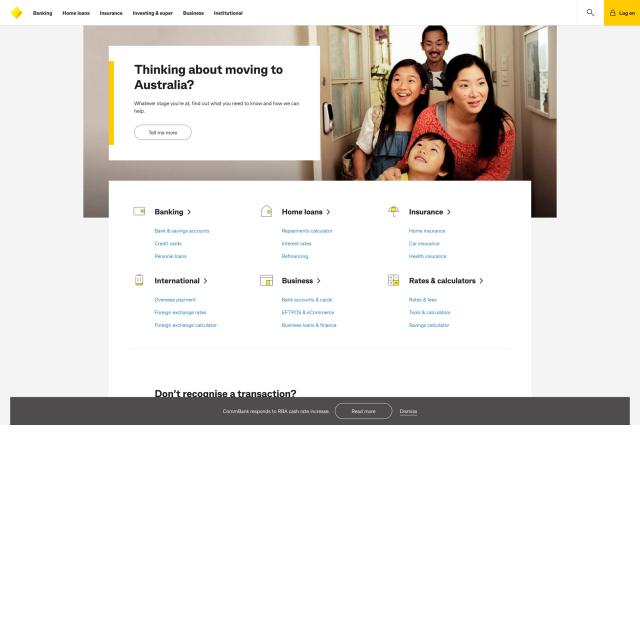CheckBox: (134, 124, 192, 141), (335, 403, 393, 420), (604, 0, 640, 26), (409, 276, 484, 286), (578, 0, 604, 26), (154, 276, 208, 286), (409, 206, 451, 218), (281, 206, 331, 216), (154, 206, 192, 218), (153, 295, 198, 304), (282, 276, 321, 286), (154, 322, 217, 328), (154, 309, 207, 316), (155, 228, 210, 234), (154, 253, 188, 260), (154, 240, 182, 247), (398, 408, 418, 417)
Input field: (133, 100, 300, 115), (221, 408, 331, 417)
Spinner: (109, 46, 320, 160)
bag: (0, 0, 640, 26)
card: (83, 25, 557, 217)
carousel: (259, 274, 274, 287), (260, 204, 273, 217), (388, 273, 400, 287), (388, 205, 399, 218), (134, 274, 144, 286), (133, 207, 145, 216), (609, 8, 616, 18)
data feed: (348, 406, 377, 416), (148, 130, 178, 136), (618, 9, 636, 18)
date picker: (8, 6, 24, 20)
decoration: (109, 180, 530, 348), (29, 9, 244, 18)
header: (10, 397, 630, 425)
image: (134, 62, 283, 91)
